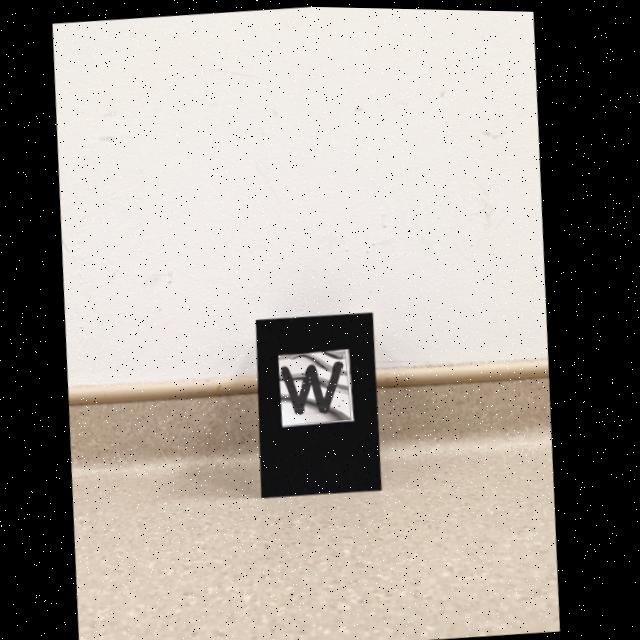W: (284, 359, 345, 412)
